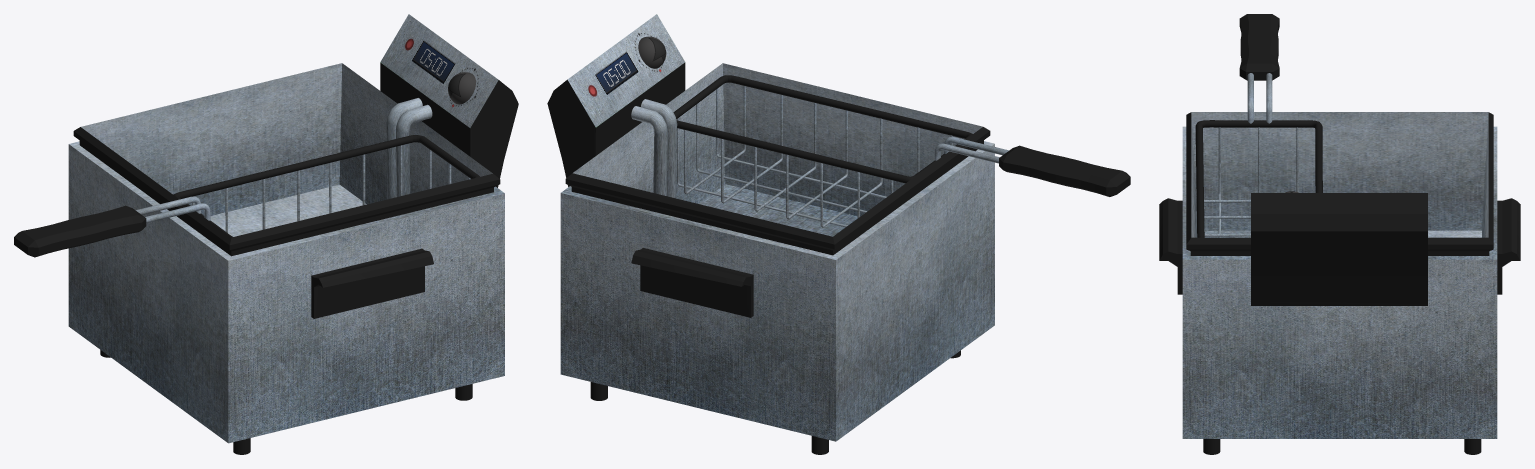
Rendered from Fryer.FBX.
The picture shows the model from 3 angles, left to right: view 1: azimuth 30°, elevation 25°; view 2: azimuth 150°, elevation 25°; view 3: azimuth 270°, elevation 25°; orthographic projection.
Visible parts, largest first — view 1: Box001, Cylinder001; view 2: Box001, Cylinder001; view 3: Box001, Cylinder001.
Boxes of the visible parts, bbox=[...] form: Box001: bbox=[68, 14, 518, 454]; Cylinder001: bbox=[14, 135, 479, 257]; Box001: bbox=[547, 14, 994, 454]; Cylinder001: bbox=[673, 75, 1130, 227]; Box001: bbox=[1159, 112, 1520, 454]; Cylinder001: bbox=[1195, 14, 1322, 237].
Bounding box in the file's own units: 71.33 × 39.95 × 45.95.
